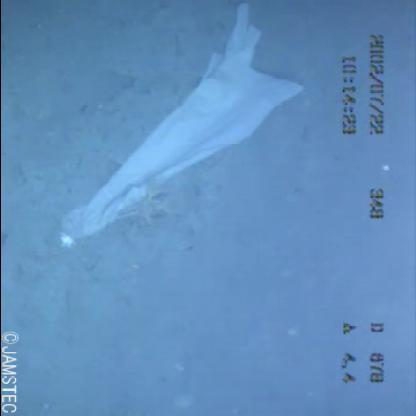Bio: (110, 178, 178, 244)
Rác: (46, 2, 318, 258)
